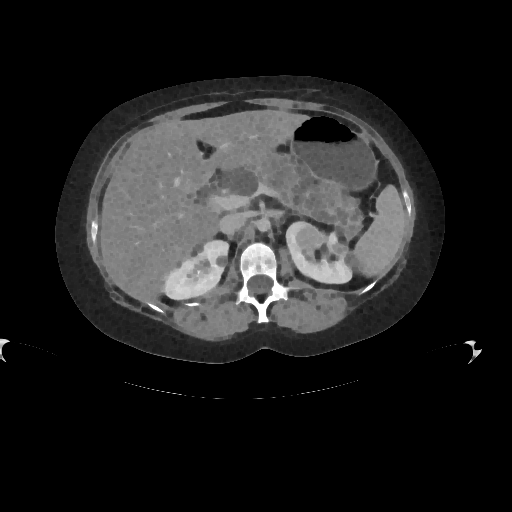Lesion: (294, 225, 325, 252)
